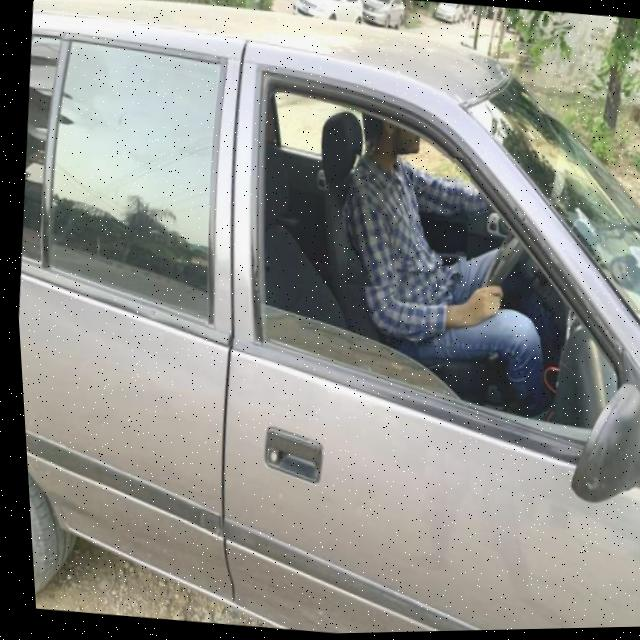no-seatbelt: (334, 146, 474, 296)
